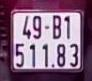1: (64, 15, 72, 40), (41, 42, 49, 67), (29, 43, 36, 68)
3: (69, 43, 79, 67)
4: (22, 15, 32, 40)
5: (15, 42, 25, 68)
8: (56, 43, 67, 68)
9: (33, 15, 42, 39)
B: (52, 14, 62, 40)
